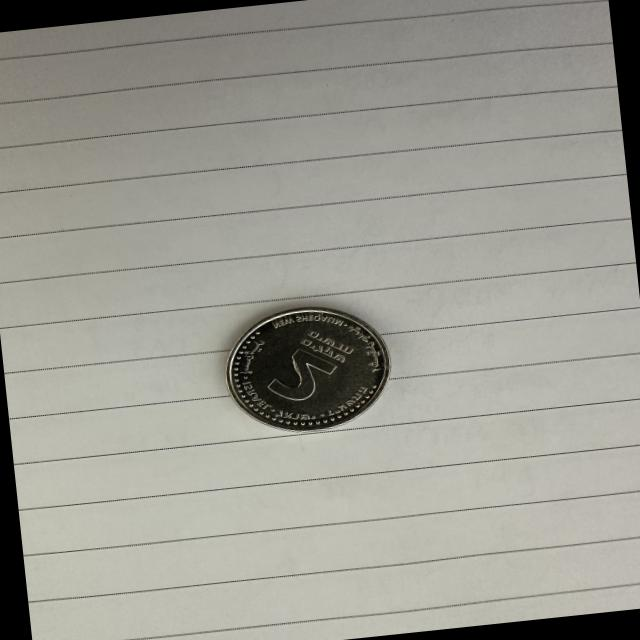2-shekel: (220, 298, 406, 439)
